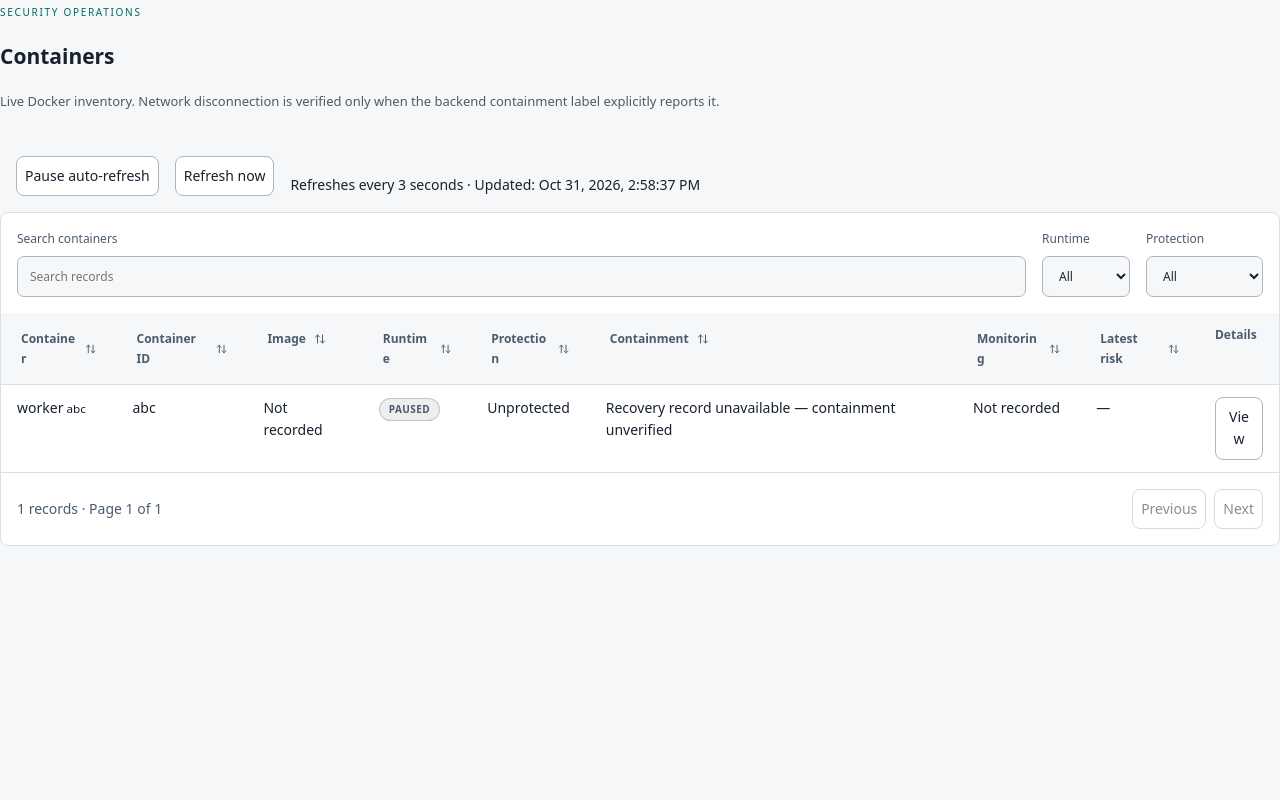
disables both actions when containment recovery state is unavailable
Click the button with aria-label "View record abc" at [1239, 428], box x1=1215 y1=397 x2=1263 y2=460
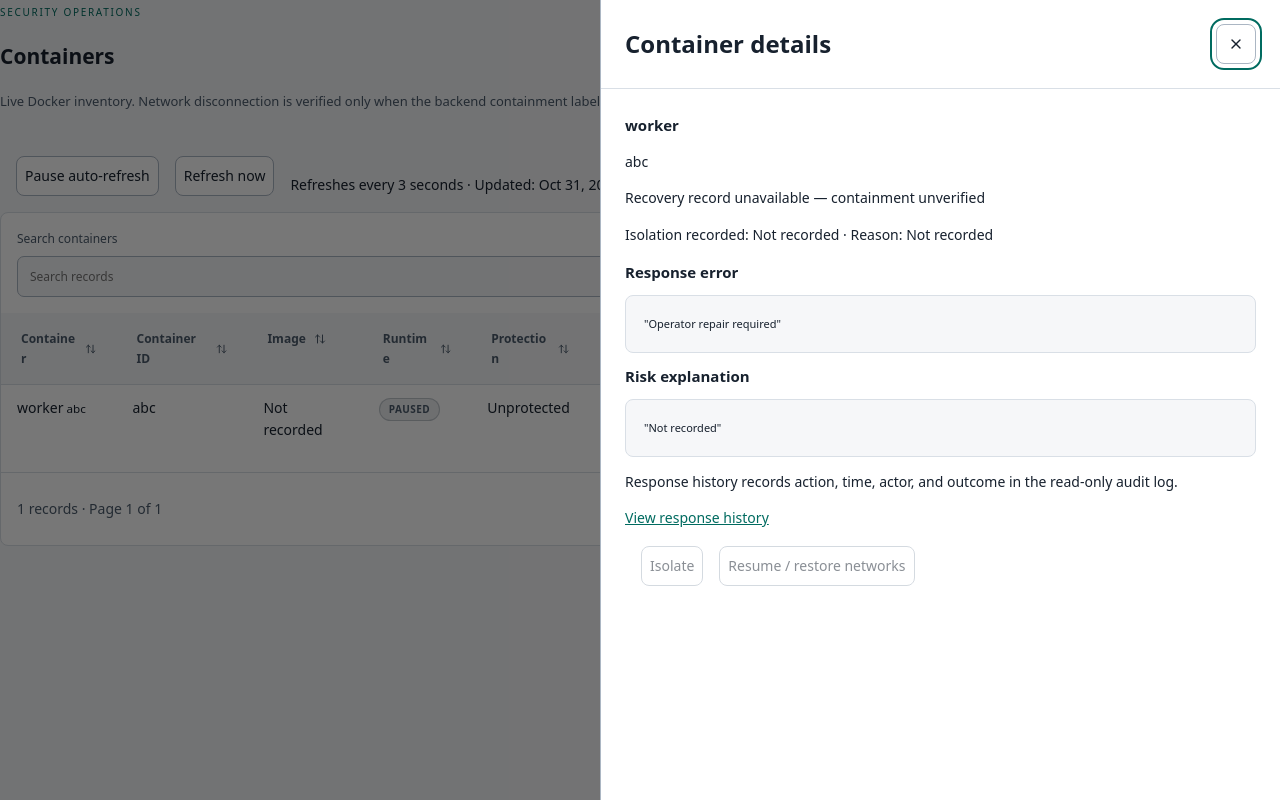
expect the button "Isolate" is disabled: met, box x1=641 y1=546 x2=703 y2=586
expect the button "Resume / restore networks" is disabled: met, box x1=719 y1=546 x2=914 y2=586
expect the dialog shows "Operator repair required": met, box x1=644 y1=316 x2=781 y2=331
